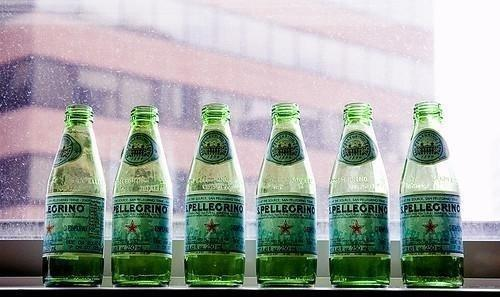bottle-glass: (398, 101, 465, 289), (325, 102, 392, 288), (183, 101, 246, 287), (255, 102, 318, 288), (110, 105, 174, 287), (43, 103, 106, 286)
